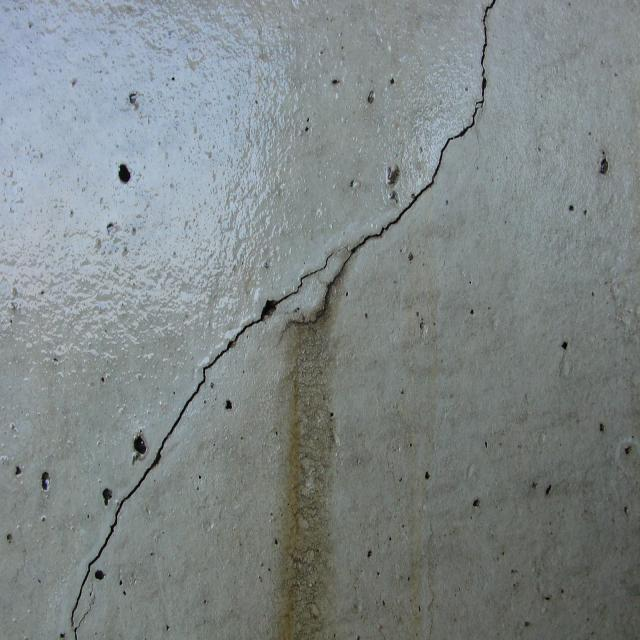corrosion: (252, 261, 356, 640), (386, 231, 453, 633)
